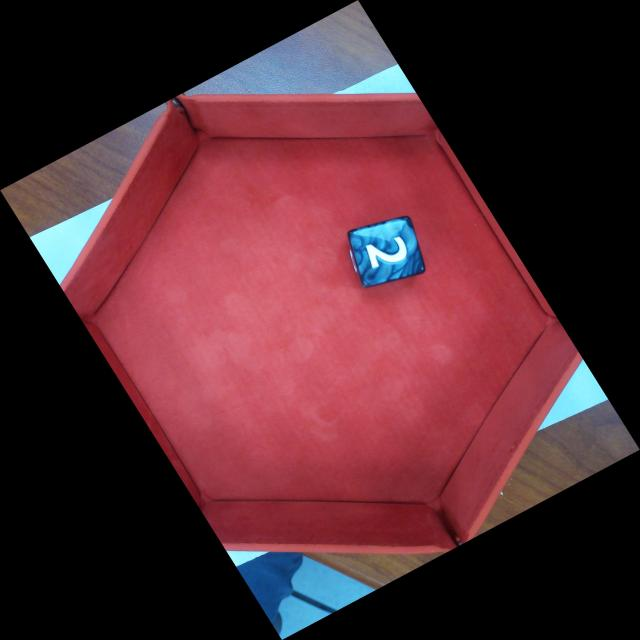dice: (354, 216, 429, 283)
